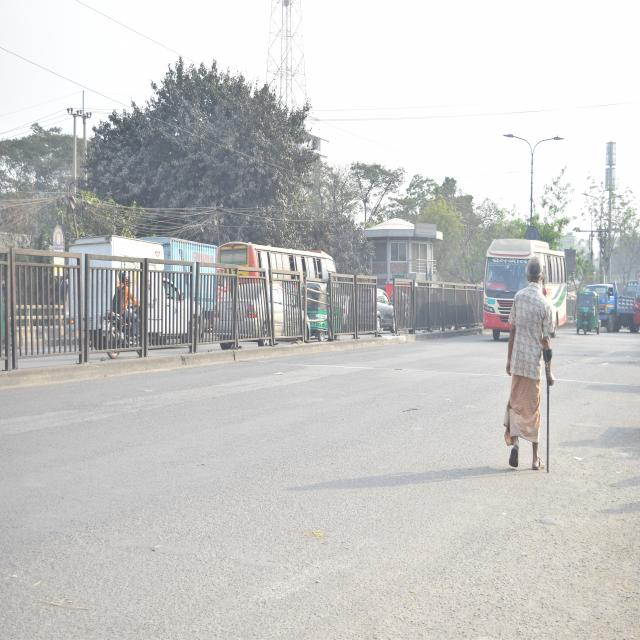bus: (482, 236, 564, 344)
pickup-van: (594, 273, 636, 331)
